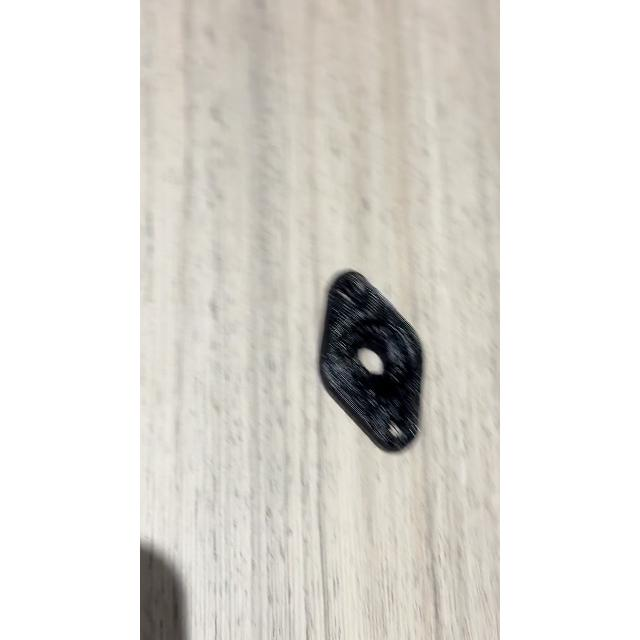Pieza_2: (288, 250, 430, 460)
